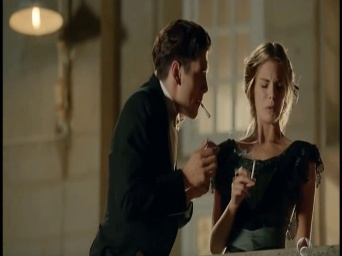smoke: (198, 102, 210, 117), (249, 159, 255, 183)
